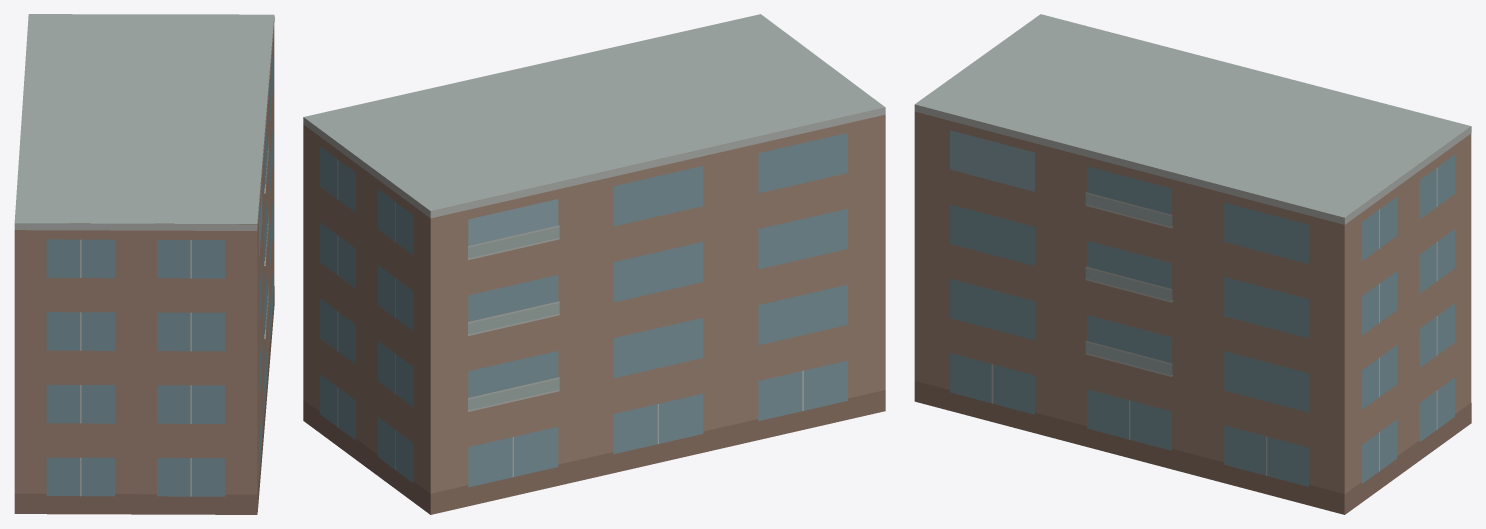
The model's file is survey-upis-32514937.glb.
3 renders of one model, left to right at view 1: azimuth 30°, elevation 25°; view 2: azimuth 150°, elevation 25°; view 3: azimuth 270°, elevation 25°, orthographic. The views are drawn at different scales.
Visible parts, largest first — view 1: survey-upis-32514937.tmp; view 2: survey-upis-32514937.tmp; view 3: survey-upis-32514937.tmp.
Boxes of the visible parts, left/top/right/bottom form: survey-upis-32514937.tmp: left=14, top=14, right=274, bottom=514; survey-upis-32514937.tmp: left=303, top=14, right=885, bottom=514; survey-upis-32514937.tmp: left=914, top=14, right=1471, bottom=514.
Bounding box in the file's own units: 15.01 × 10.2 × 17.33.
